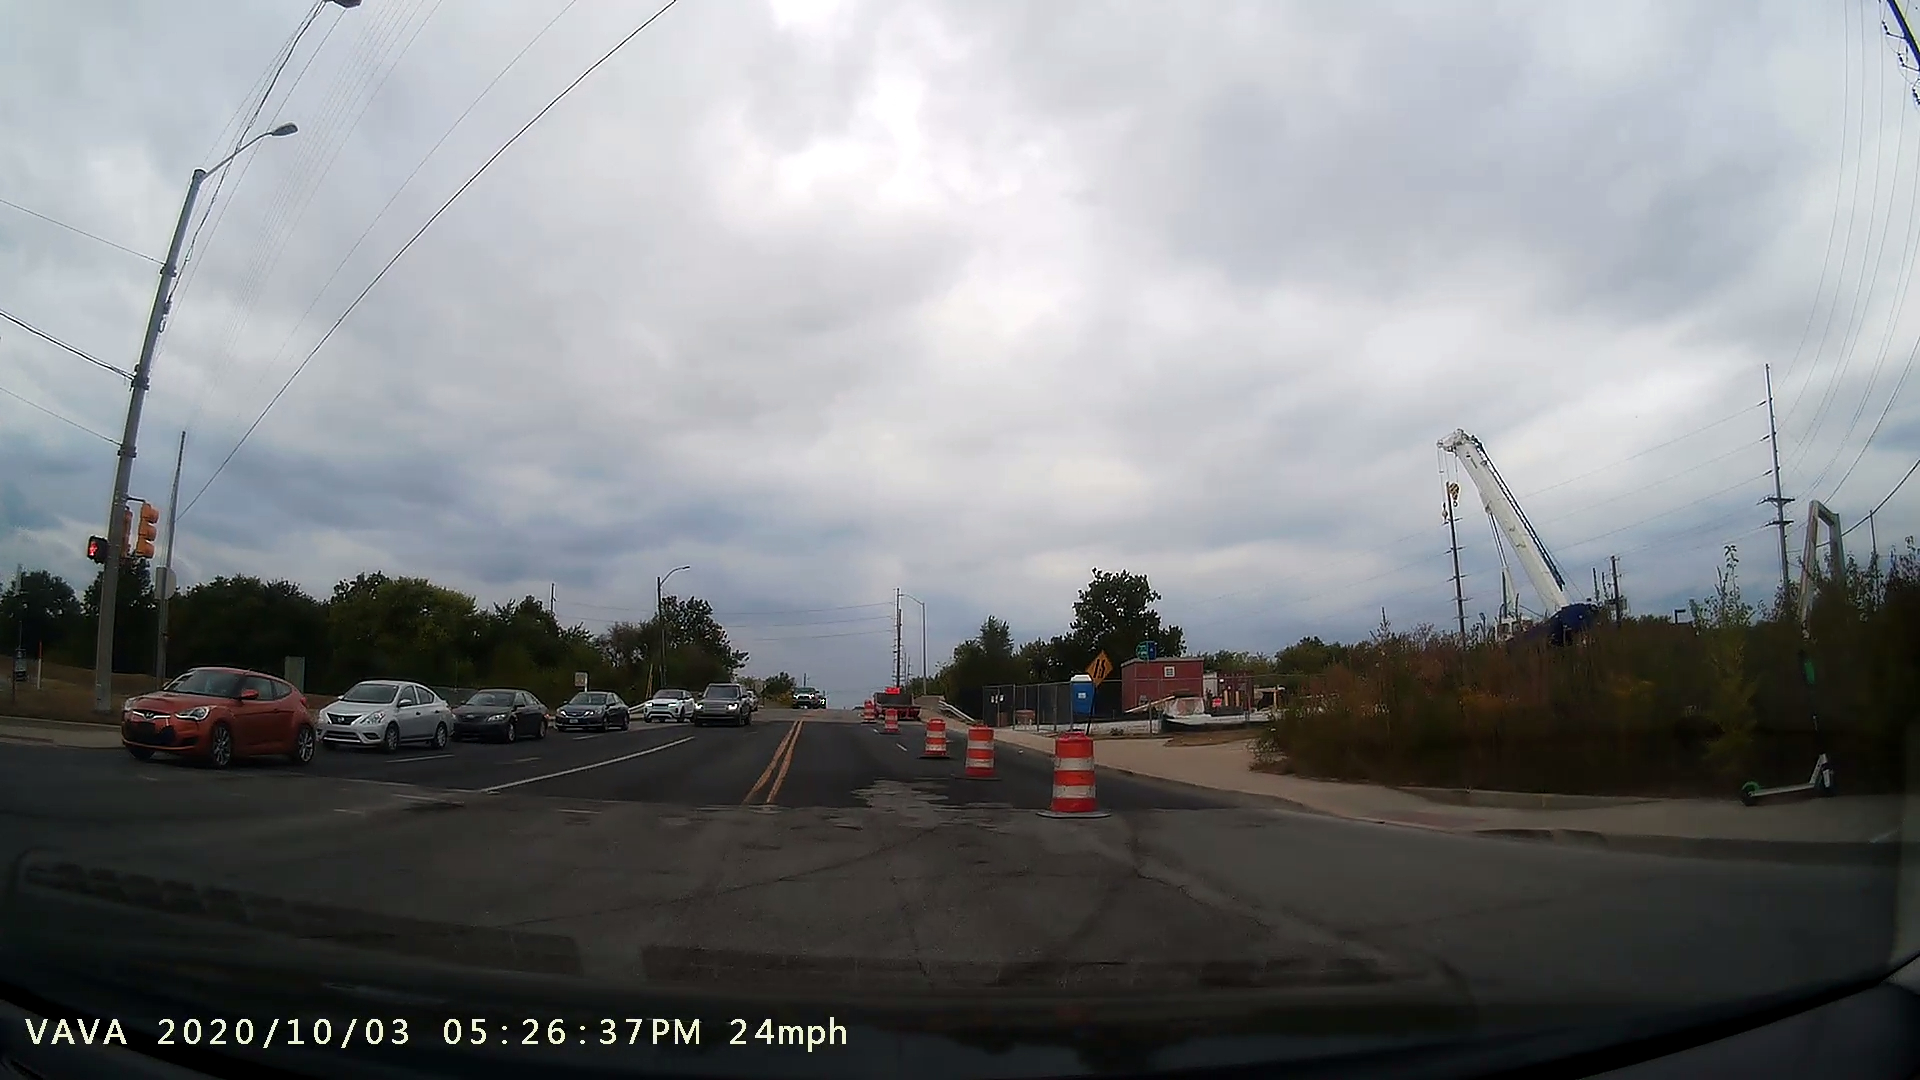const_barrel: (1038, 715, 1110, 827), (955, 713, 1010, 789), (916, 704, 957, 771)
